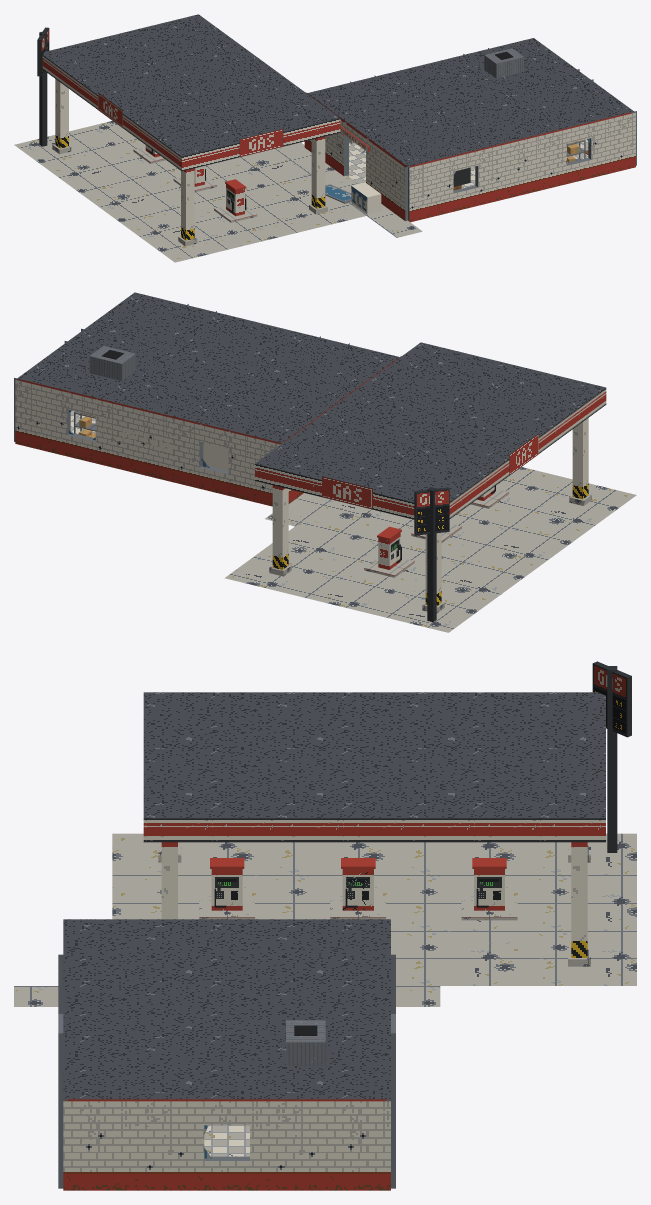
The model's file is gas_station_town.glb.
3 renders of one model, top to bottom at view 1: azimuth 30°, elevation 25°; view 2: azimuth 150°, elevation 25°; view 3: azimuth 270°, elevation 25°, orthographic. The views are drawn at different scales.
Parts seen in each view (by area): view 1: gas_station_town; view 2: gas_station_town; view 3: gas_station_town.
Part boxes in pixels (left/top/right/bottom): gas_station_town: left=14, top=14, right=636, bottom=262; gas_station_town: left=14, top=292, right=636, bottom=632; gas_station_town: left=14, top=661, right=636, bottom=1190.
Bounding box in the file's own units: 25.65 × 6.2 × 19.
19 materials, 19 textured.
